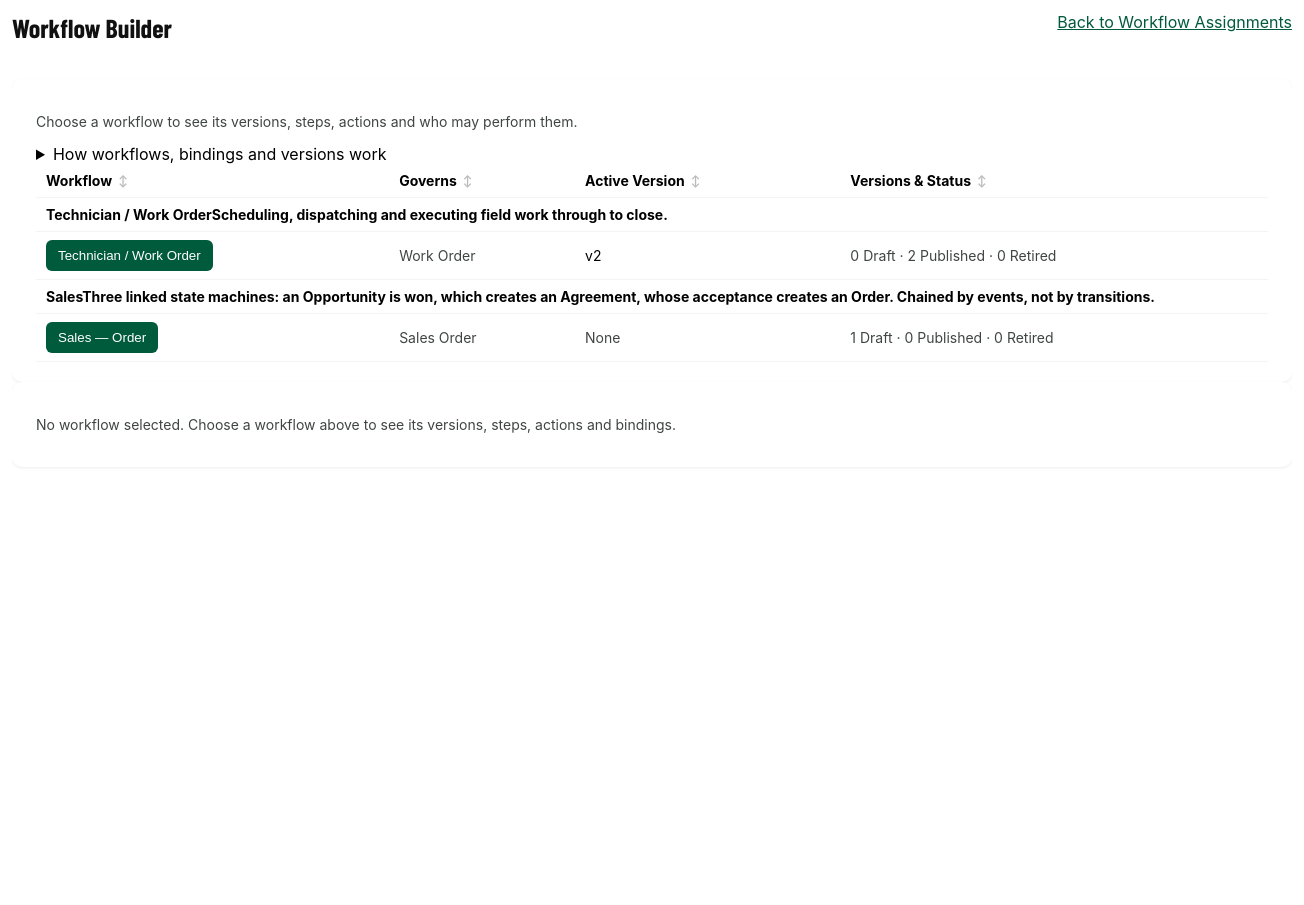
Workflow Builder -- the caller's own workflow decisions (W01 D2) › fails closed when the decisions cannot be read
Click the button "Sales — Order": (102, 338) [46,322,158,353]
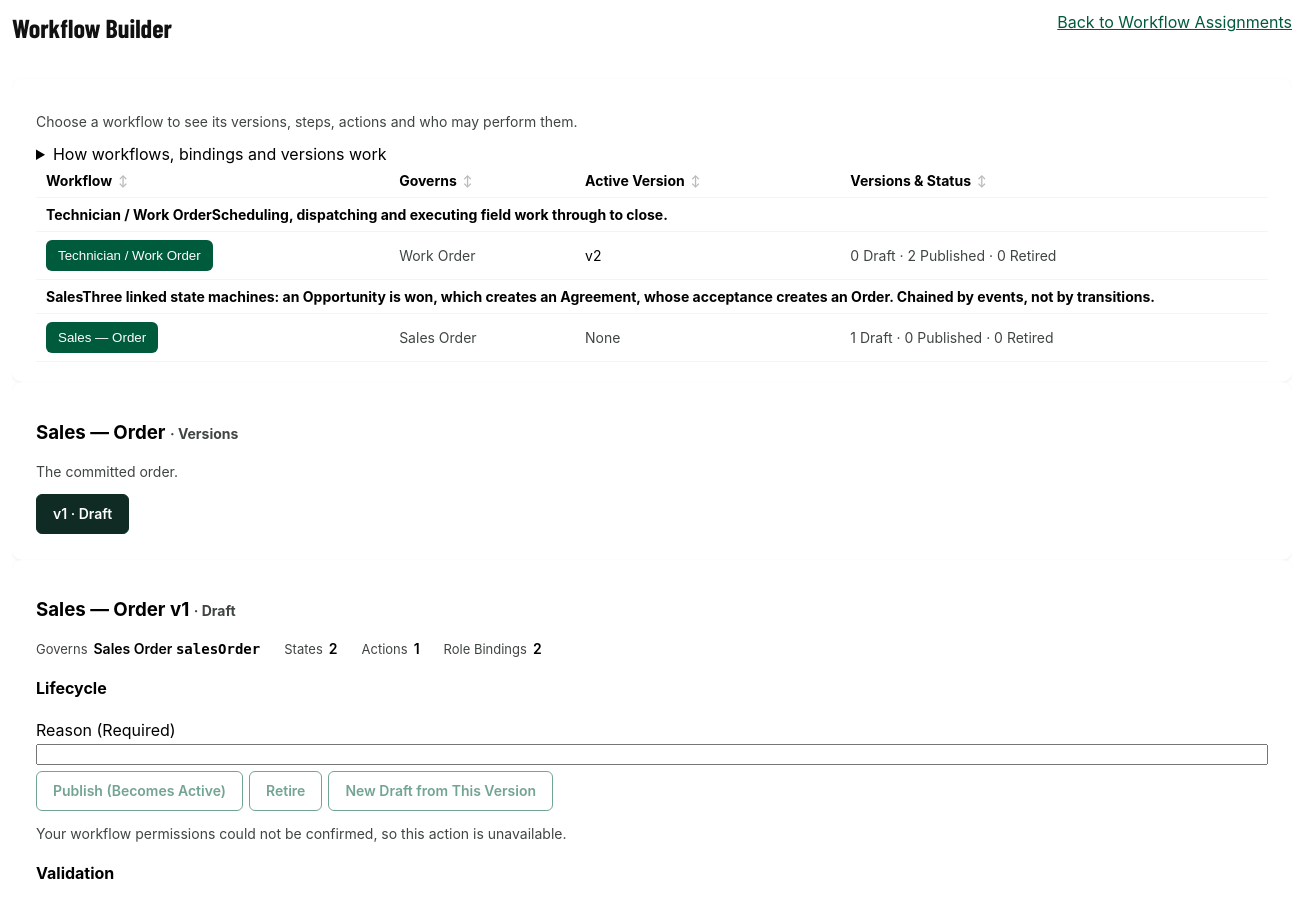
Expected: the text "could not be confirmed" is shown, [36,825,566,842]
Expected: the button with test id "publish" is disabled, [36,771,243,811]
